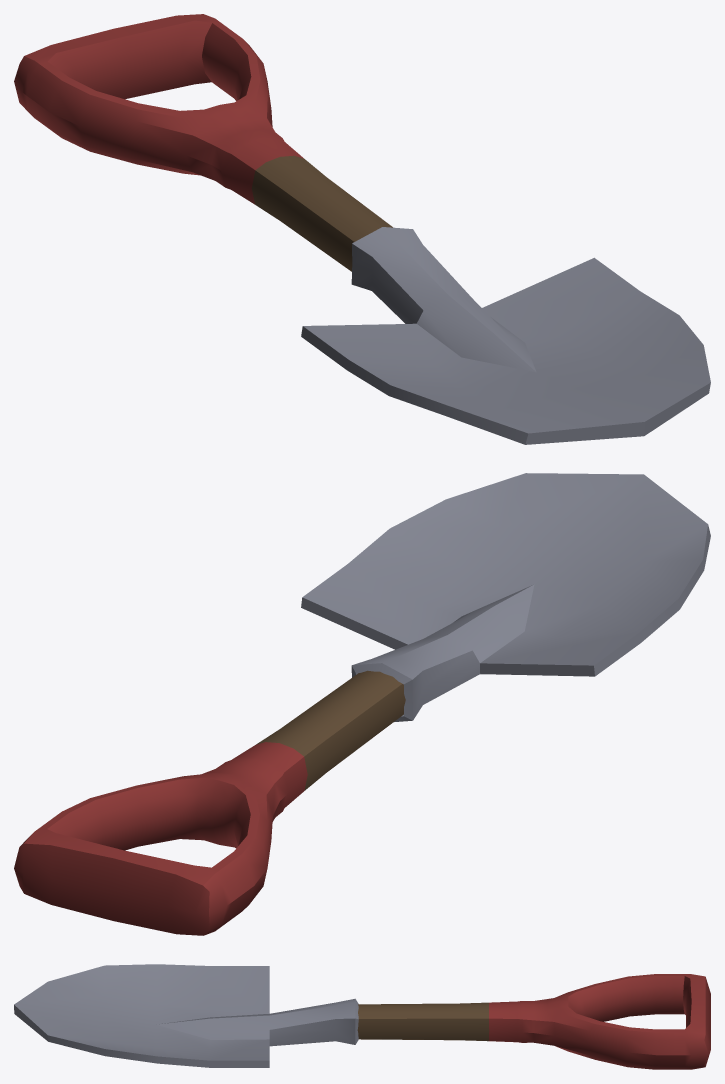
File: spade2.fbx
3 views of the same model, one above another, from view 1: azimuth 30°, elevation 25°; view 2: azimuth 150°, elevation 25°; view 3: azimuth 270°, elevation 25° (orthographic). The views are drawn at different scales.
Parts seen in each view (by area): view 1: Shovel; view 2: Shovel; view 3: Shovel.
Part boxes in pixels (x1,y1,x2,y2): Shovel: (14,14,710,444); Shovel: (14,473,710,935); Shovel: (14,964,710,1069).
Bounding box in the file's own units: 35.17 × 7.44 × 111.
